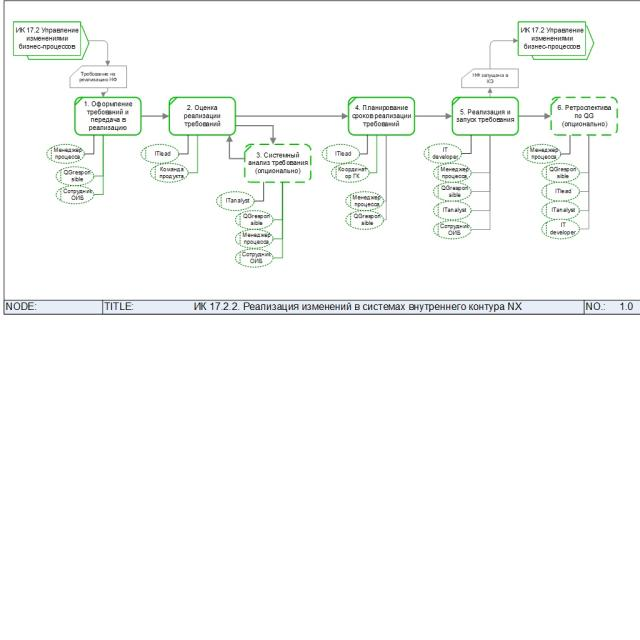arrow: (237, 112, 348, 121), (488, 37, 518, 68), (237, 124, 277, 144), (87, 38, 111, 66), (225, 136, 244, 160), (518, 111, 550, 121), (416, 112, 451, 120), (143, 112, 168, 120), (100, 88, 109, 98), (486, 88, 494, 98)
rectangle: (74, 96, 142, 136), (168, 96, 236, 136), (244, 143, 312, 183), (550, 96, 618, 136), (348, 96, 415, 136), (452, 96, 518, 136), (13, 20, 81, 56), (518, 20, 586, 56), (69, 65, 127, 88), (462, 68, 519, 89)
